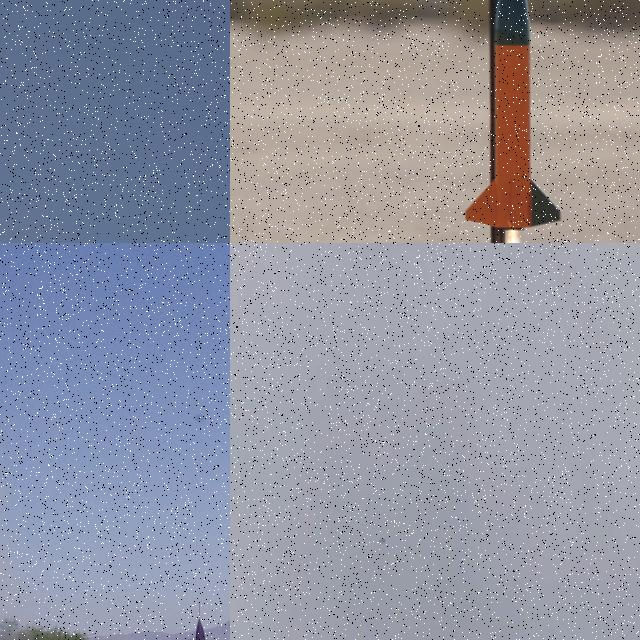Rocket: (464, 0, 562, 234), (190, 618, 216, 640), (378, 539, 386, 543)
